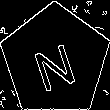N_N: (29, 30, 81, 91)
